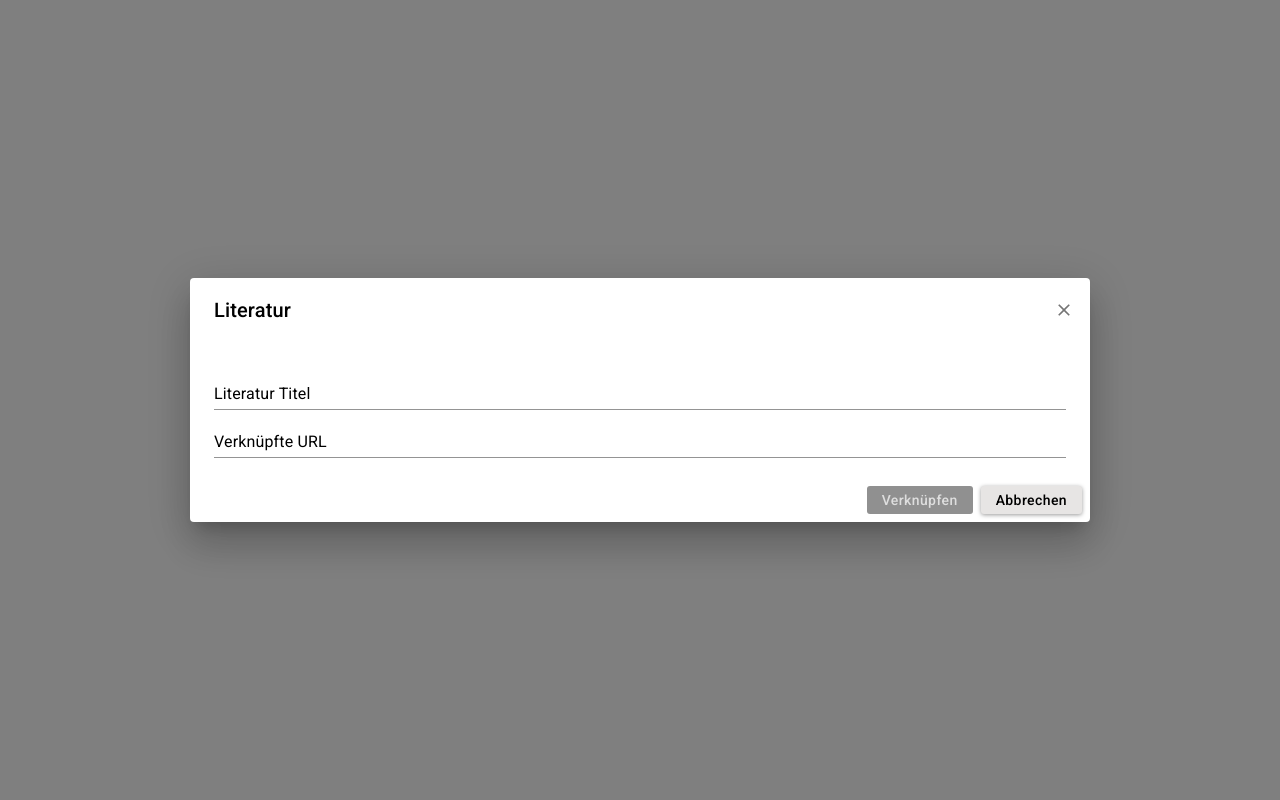
LiteraturDialog › in edit mode › enables save button on filled out text fields
The width and height of the screenshot is (1280, 800).
In the dropdown labelled "Literatur Titel": (640, 394) [214,378,1066,409], type "Some text"
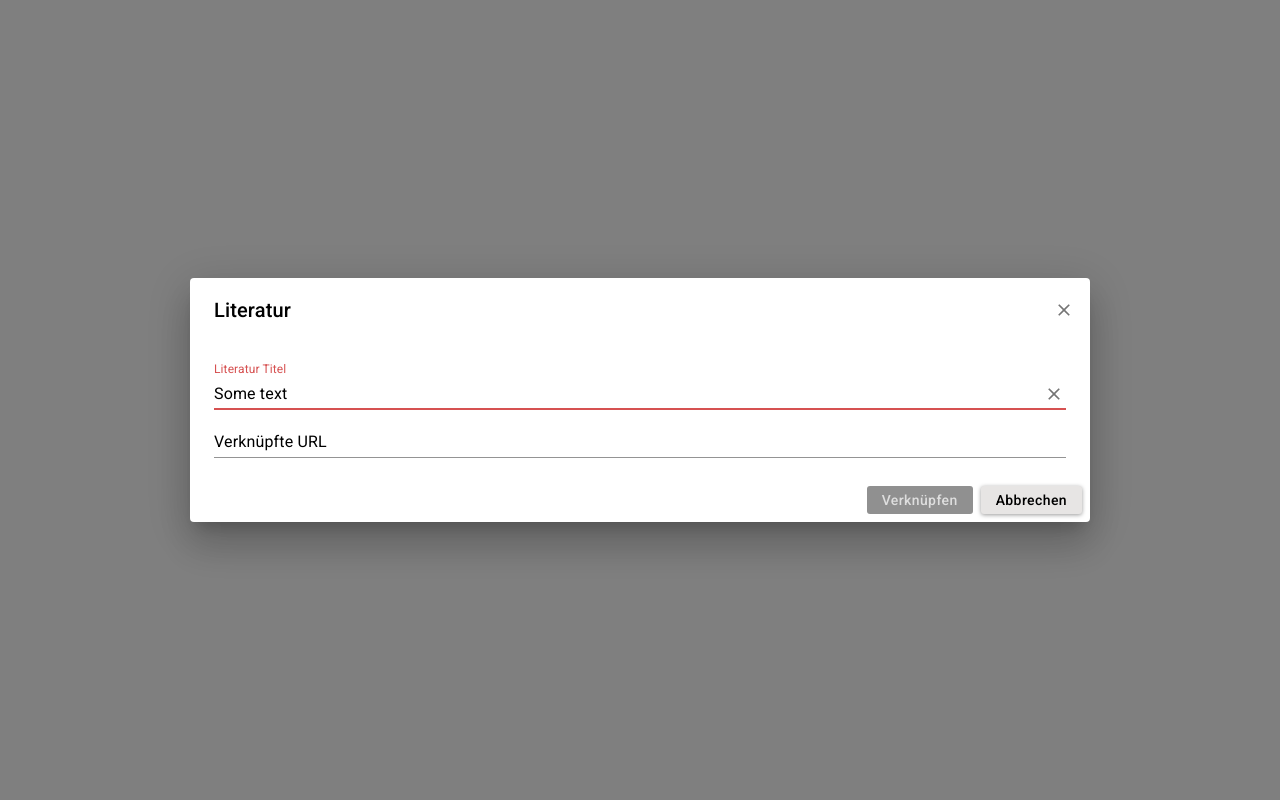
In the field labelled "Verknüpfte URL": (640, 442) [214,426,1066,458], type "https://some-url"
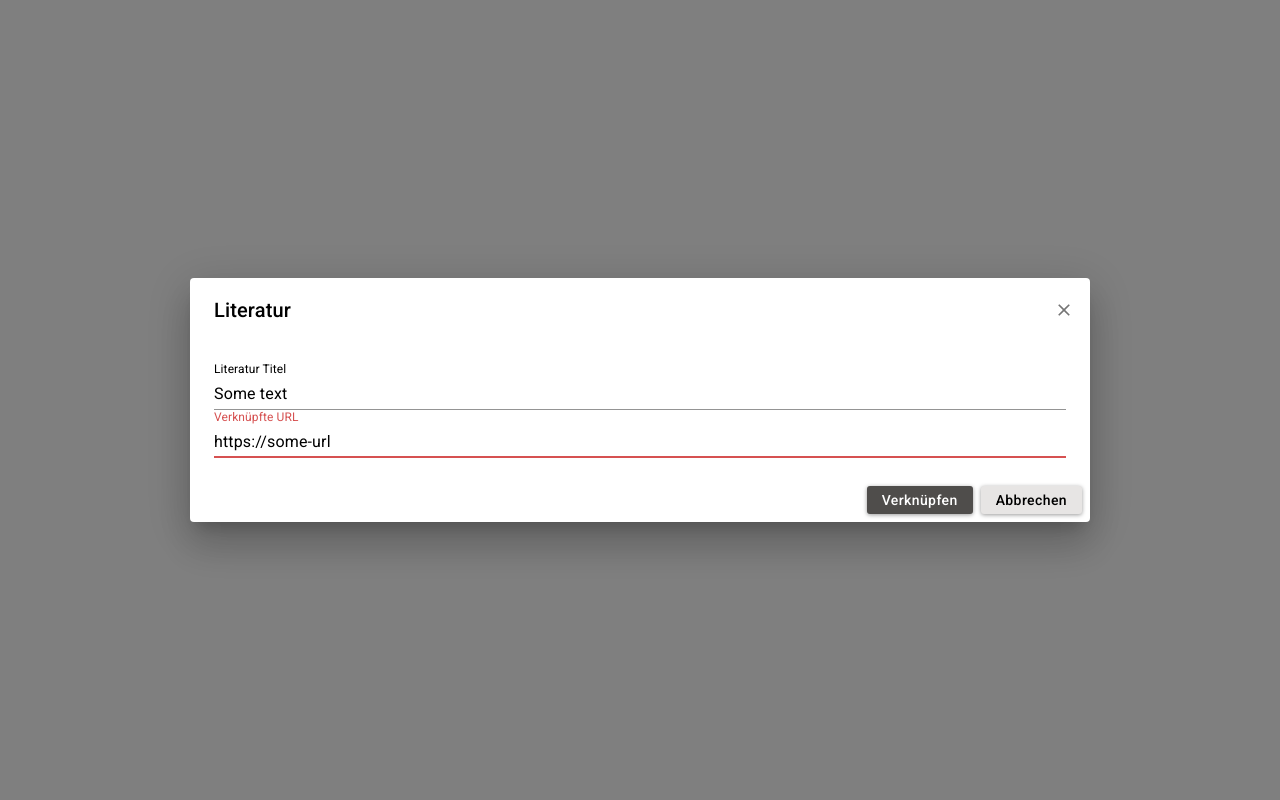
Check: the button "Verknüpfen" is enabled, box [867,486,973,514]
